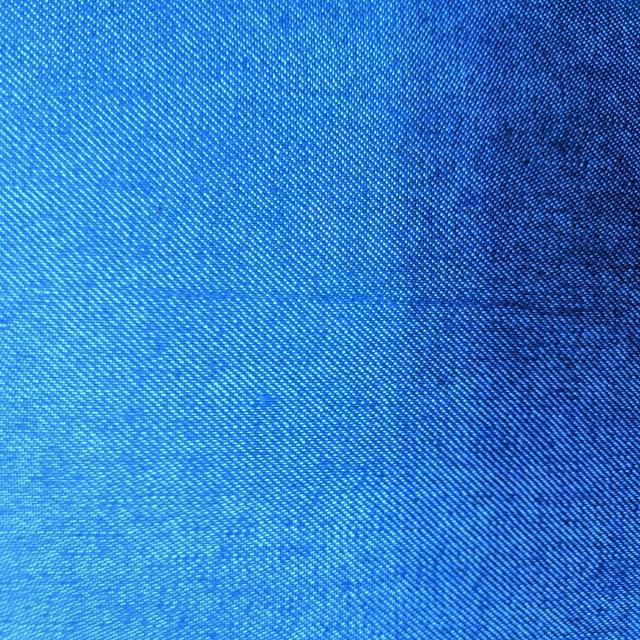Line: (108, 283, 601, 319)
